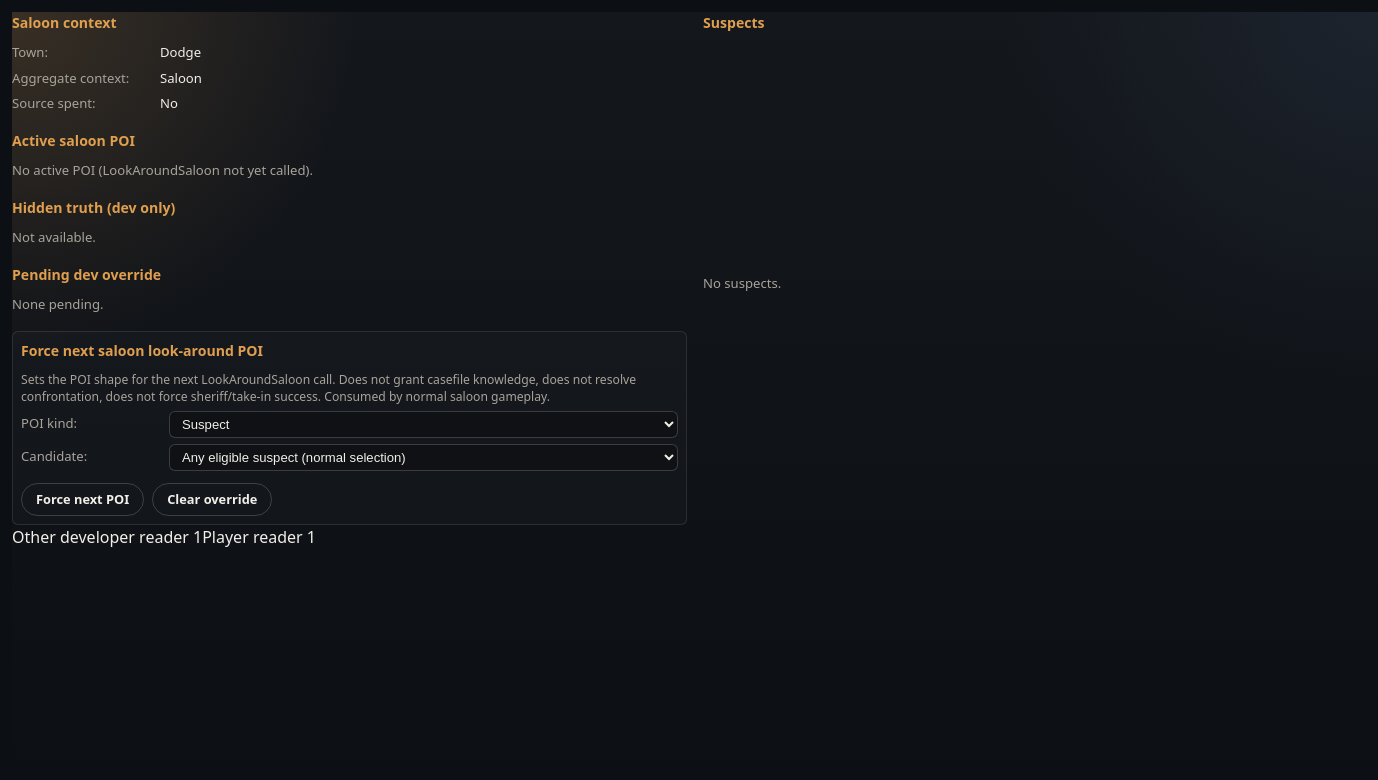
Test case: developer command resource refresh › refreshes another developer panel and player readers after a saloon command
Expected: the text "Other developer reader 1" is shown, [12,526,202,548]
Expected: the text "Player reader 1" is shown, [202,526,316,548]
Click the button "Force next POI": (83, 499) [21,483,144,516]
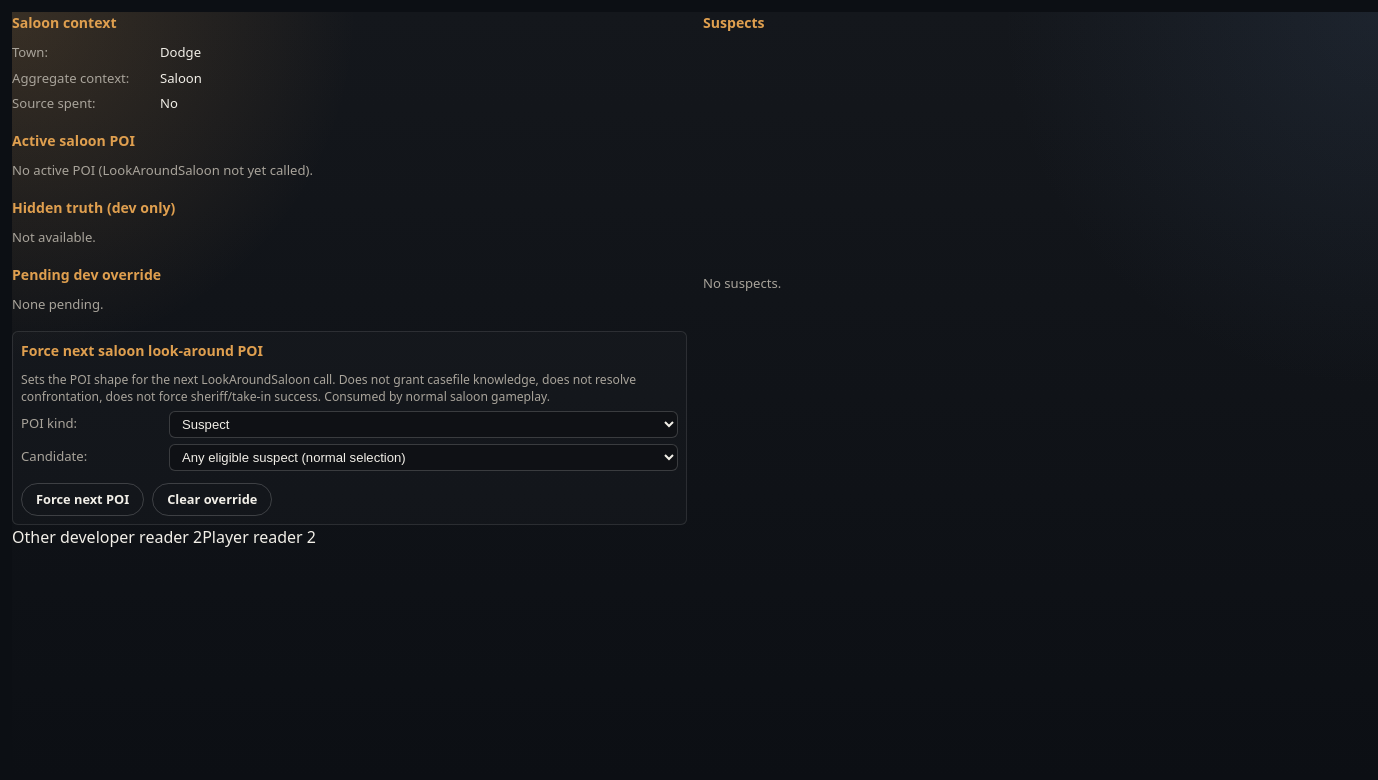
Now the text "Other developer reader 2" is shown, box [12,526,202,548]
Now the text "Player reader 2" is shown, box [202,526,316,548]
